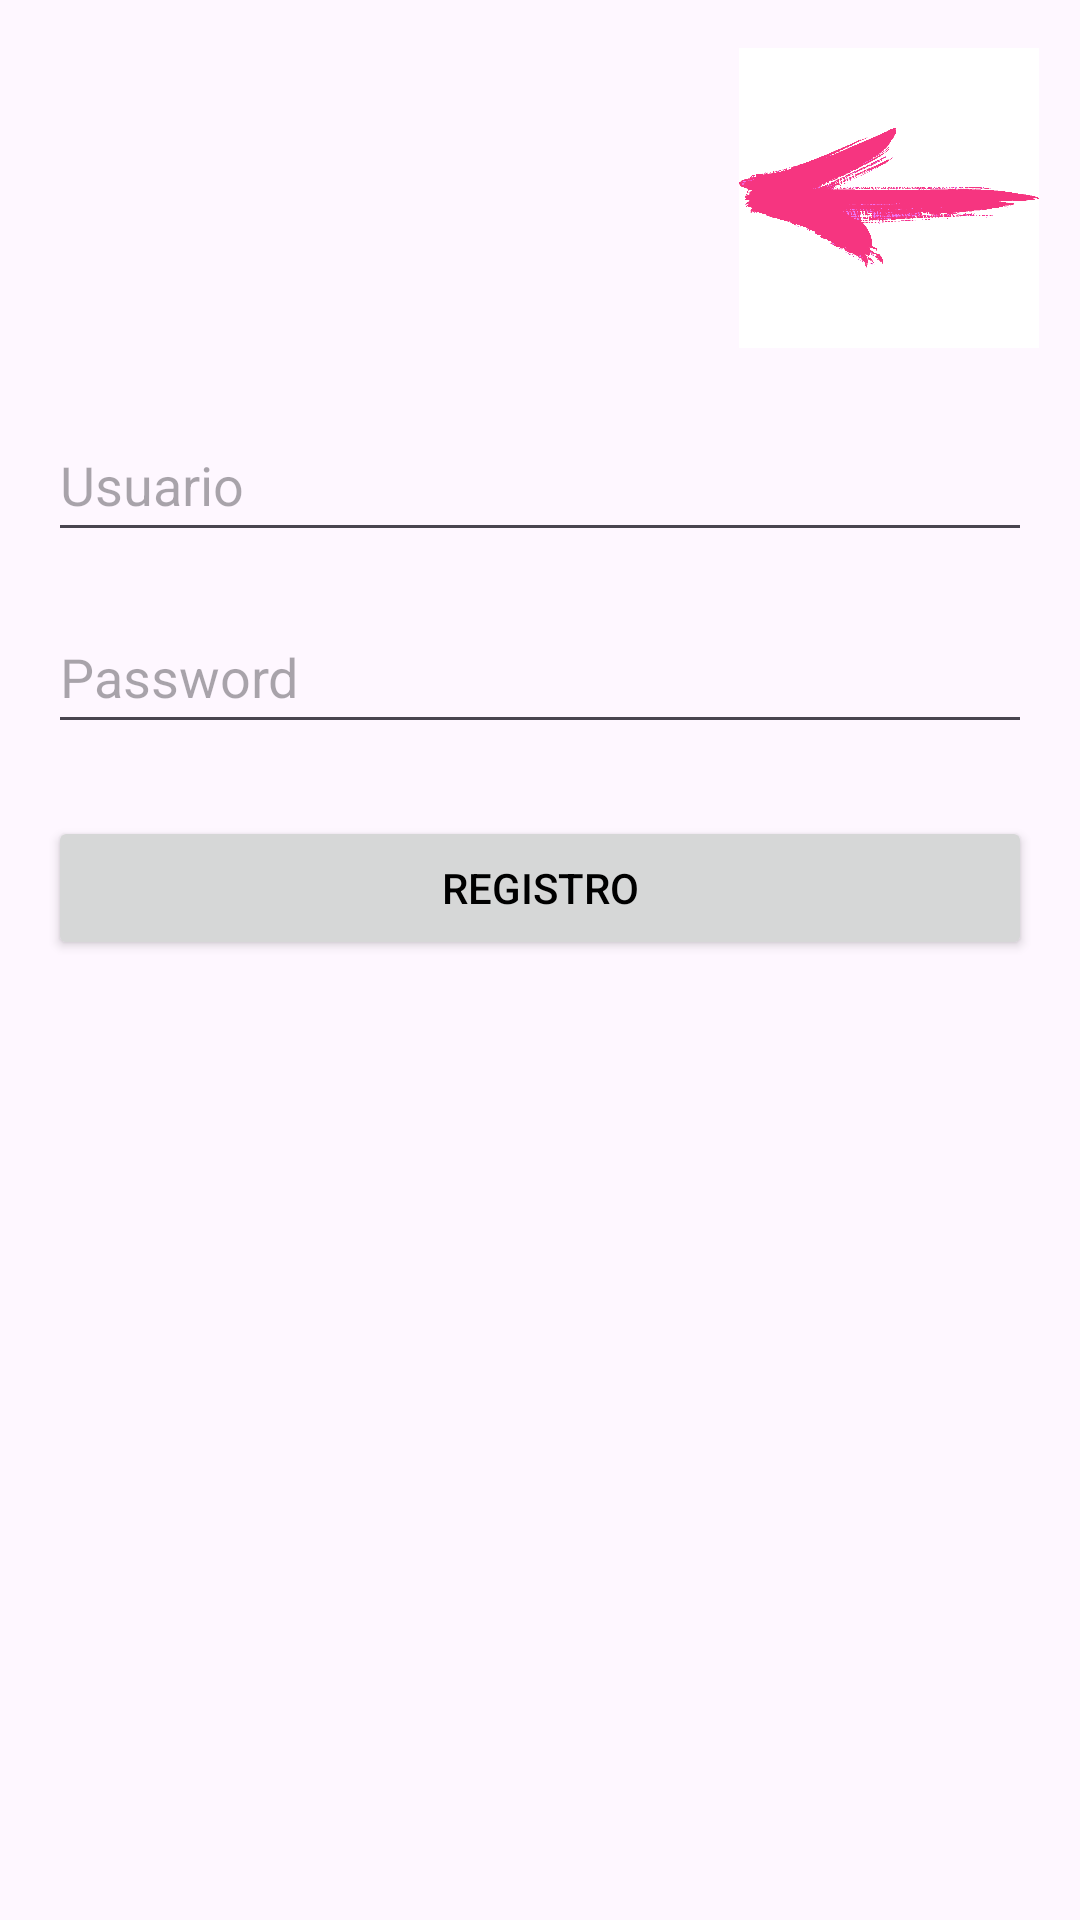

Named icons in this screenshot (1080×1920) and their centers, (x,y):
botón de flecha atrás: (889,198)
